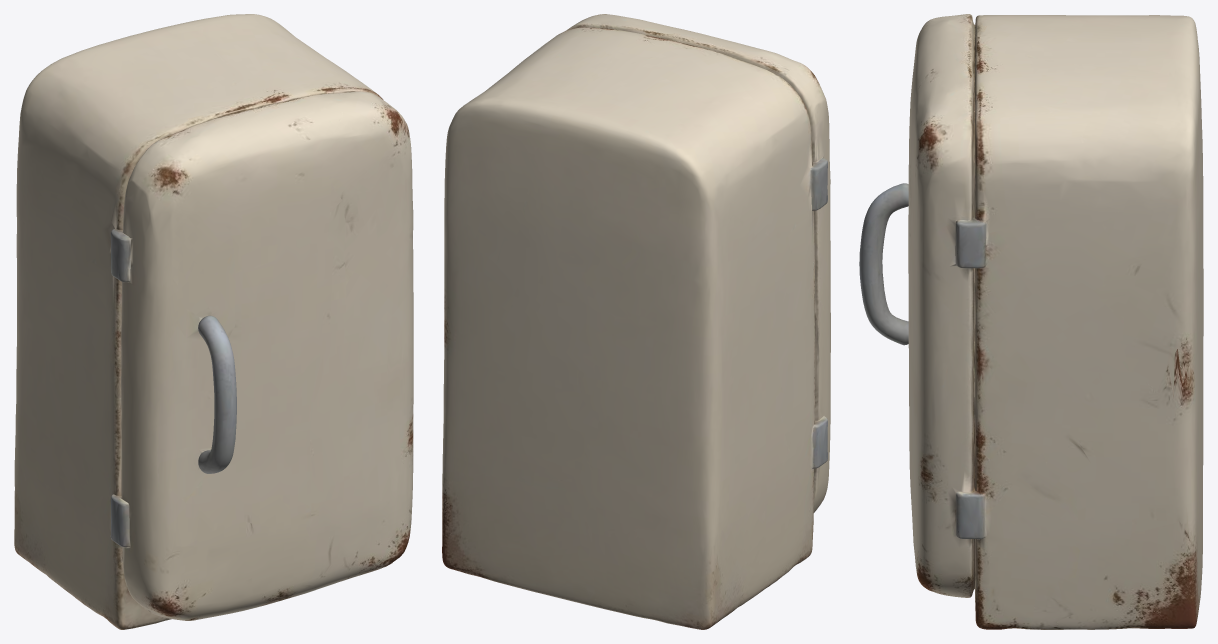
Rendered from fridge_elektricheskiy_idle.glb.
3 views of the same model, side by side, from view 1: azimuth 30°, elevation 25°; view 2: azimuth 150°, elevation 25°; view 3: azimuth 270°, elevation 25° (orthographic). The views are drawn at different scales.
Visible parts, largest first — view 1: tripo_node_4f28ce5e-0d73-4f13-99c0-bacecb57a2a8; view 2: tripo_node_4f28ce5e-0d73-4f13-99c0-bacecb57a2a8; view 3: tripo_node_4f28ce5e-0d73-4f13-99c0-bacecb57a2a8.
Part boxes in pixels (x1=…): tripo_node_4f28ce5e-0d73-4f13-99c0-bacecb57a2a8: x1=14, y1=14, x2=413, y2=629; tripo_node_4f28ce5e-0d73-4f13-99c0-bacecb57a2a8: x1=442, y1=14, x2=830, y2=629; tripo_node_4f28ce5e-0d73-4f13-99c0-bacecb57a2a8: x1=859, y1=14, x2=1203, y2=629.
Bounding box in the file's own units: 1.1 × 1.8 × 1.1.
Materials: 1 (1 with a texture image).
